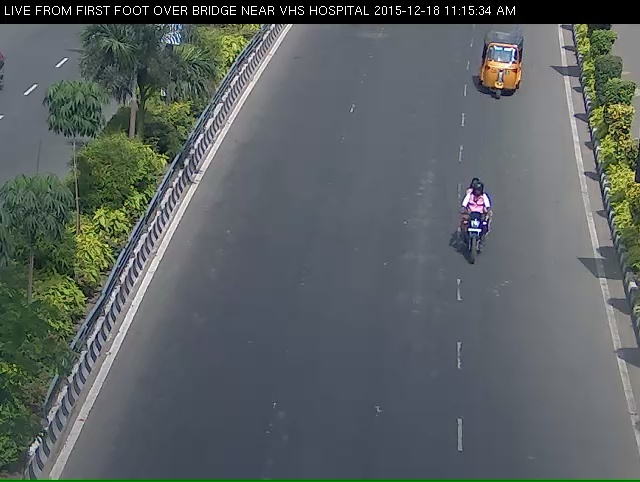Auto: (477, 30, 529, 104)
Person: (453, 191, 499, 284)
